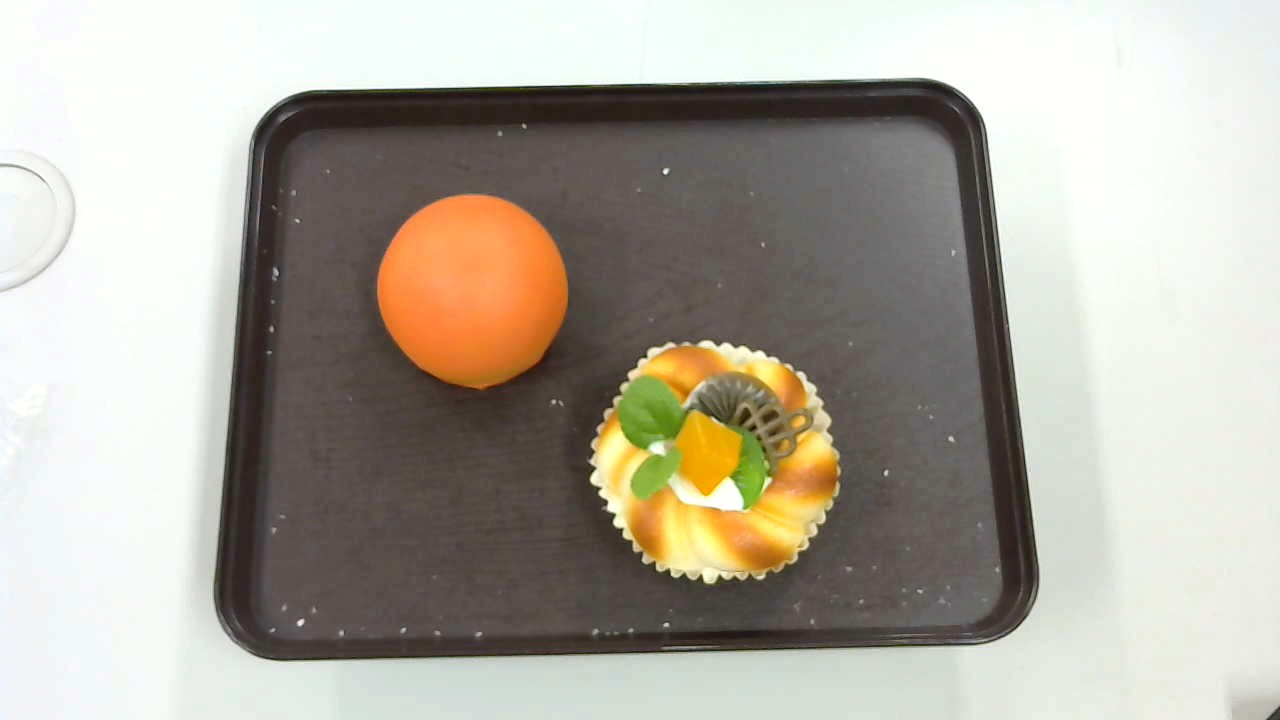bun: (376, 193, 569, 389)
fruit tart: (587, 339, 842, 582)
